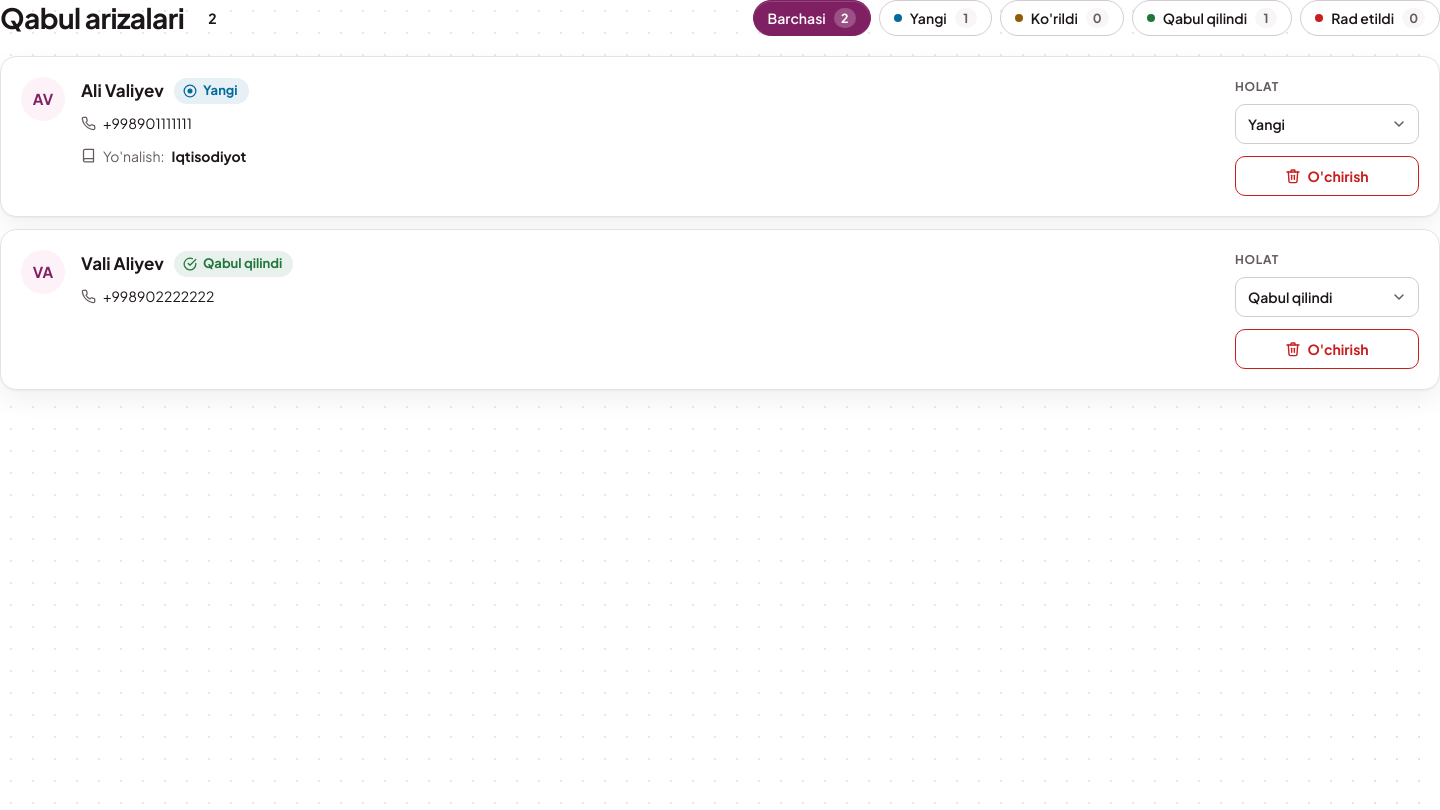
it: ApplicationsAdmin › o'chirish: «Bekor qilish» so'rov yubormaydi, ariza qoladi, fokus tugmaga qaytadi
expect the text "Ali Valiyev" is shown: met, box [81,77,164,104]
Click the button "O'chirish" in the row of "Iqtisodiyot" at (1327, 176), box [1235,156,1419,196]
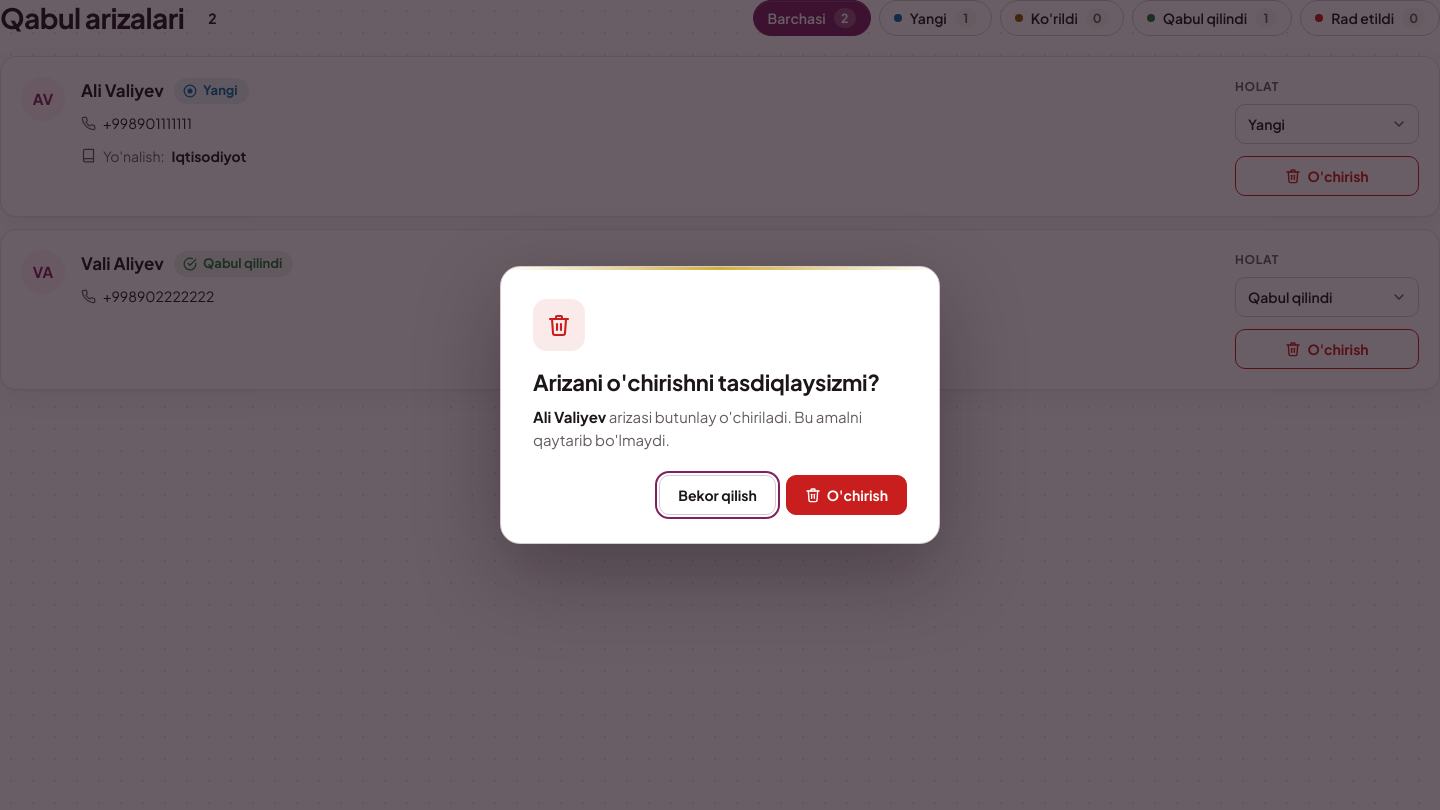
Click the button "Bekor qilish" at (717, 495), box [659,475,776,515]
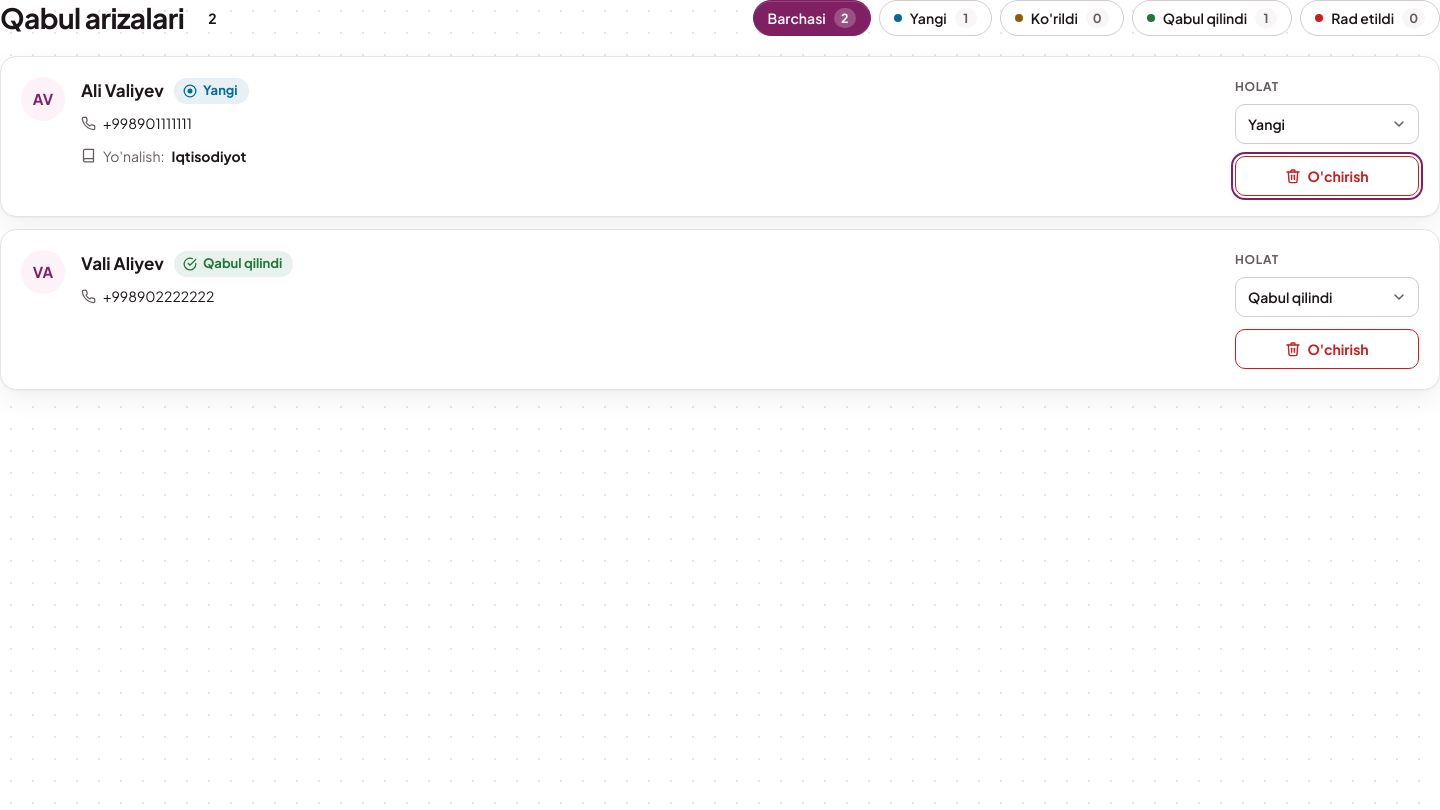
expect the text "Ali Valiyev" is shown: met, box [81,77,164,104]
expect the dialog is gone: met
